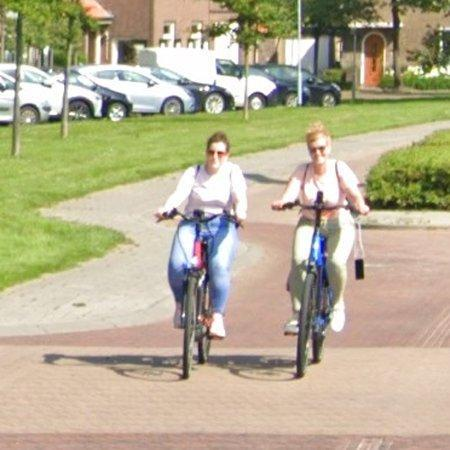bicycles: (278, 191, 349, 378), (179, 211, 213, 379)
